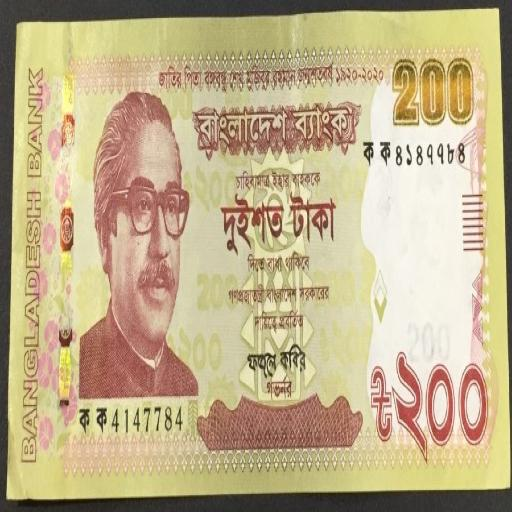200taka: (6, 10, 510, 497)
